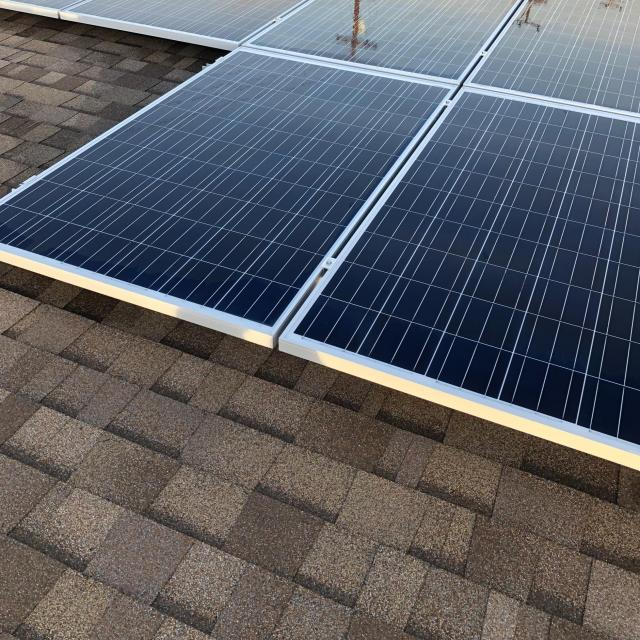clean-solar-panel: (0, 0, 638, 468)
